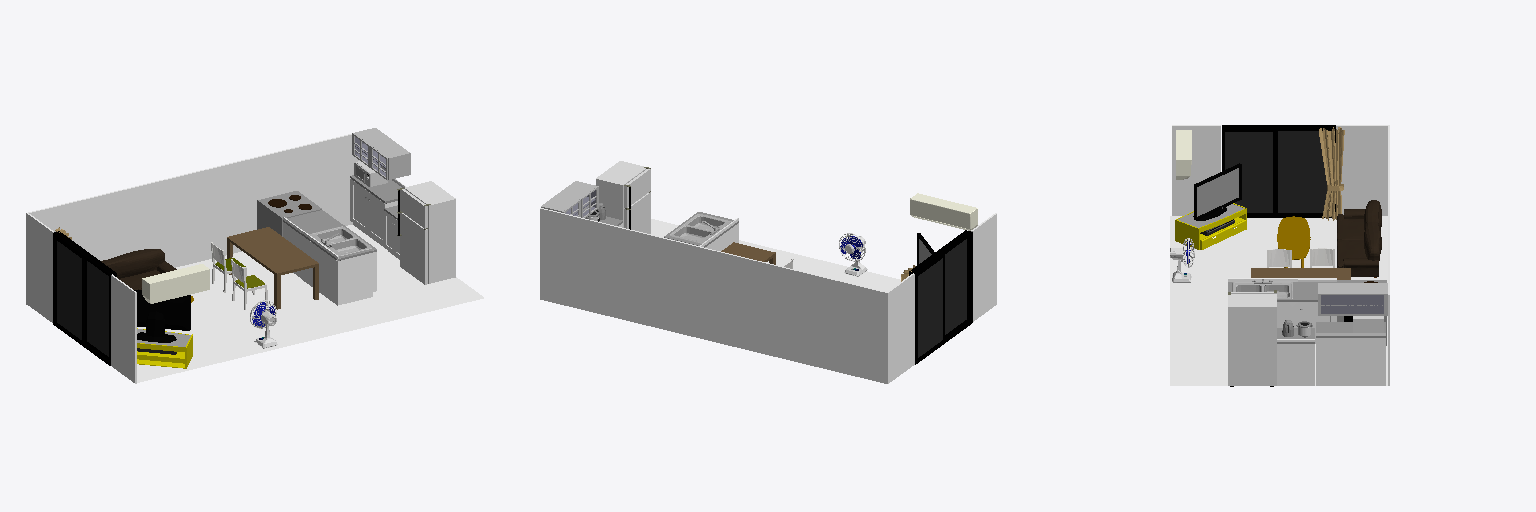
Rendered from smarthouse3.obj.
3 views of the same model, side by side, from view 1: azimuth 30°, elevation 25°; view 2: azimuth 150°, elevation 25°; view 3: azimuth 270°, elevation 25° (orthographic).
Parts seen in each view (by area): view 1: box_1, floor, fridge, kitchenSink, tvset_1, table4, window_2, box_3, box_2, kitchenLowerCabinet_1, pensile_cucina_Scene, window_3 (+9 smaller); view 2: box_1, fridge, box_3, window_2, box_2, floor, window_3, kitchenSink, internal-unity-air-conditioning, pensile_cucina_Scene, windowframe_1, tableFan (+1 smaller); view 3: floor, fridge, kitchenLowerCabinet_1, window_2, tvset_1, box_3, window_3, leather_sofa, box_2, pensile_cucina_Scene, kitchenLowerCabinet, rideau (+8 smaller).
Part boxes in pixels (x1,y1,x2,y2): box_1: (26, 134, 359, 304); floor: (137, 225, 483, 382); fridge: (397, 181, 455, 284); kitchenSink: (302, 224, 376, 305); tvset_1: (134, 290, 192, 368); table4: (227, 227, 318, 309); window_2: (56, 238, 84, 342); box_3: (27, 213, 53, 322); box_2: (111, 274, 136, 383); kitchenLowerCabinet_1: (350, 175, 405, 248); pensile_cucina_Scene: (352, 128, 410, 180); window_3: (85, 259, 108, 359); box_1: (540, 208, 888, 383); fridge: (596, 161, 650, 233); box_3: (888, 273, 914, 382); window_2: (917, 255, 944, 359); box_2: (971, 213, 996, 321); floor: (651, 219, 900, 291); window_3: (945, 237, 968, 337); kitchenSink: (664, 212, 738, 250); internal-unity-air-conditioning: (910, 193, 977, 230); pensile_cucina_Scene: (541, 181, 598, 217); windowframe_1: (909, 230, 972, 364); tableFan: (839, 233, 867, 276); floor: (1170, 216, 1387, 385); fridge: (1228, 290, 1276, 386); kitchenLowerCabinet_1: (1316, 322, 1385, 385); window_2: (1276, 131, 1326, 214); tvset_1: (1175, 163, 1246, 249); box_3: (1336, 125, 1387, 215); window_3: (1224, 131, 1275, 215); leather_sofa: (1337, 200, 1381, 277); box_2: (1172, 125, 1220, 215); pensile_cucina_Scene: (1318, 283, 1387, 315); kitchenLowerCabinet: (1277, 328, 1314, 385); rideau: (1319, 127, 1344, 220).
Size of the model in its own units: 4.03 by 1.07 by 2.18.